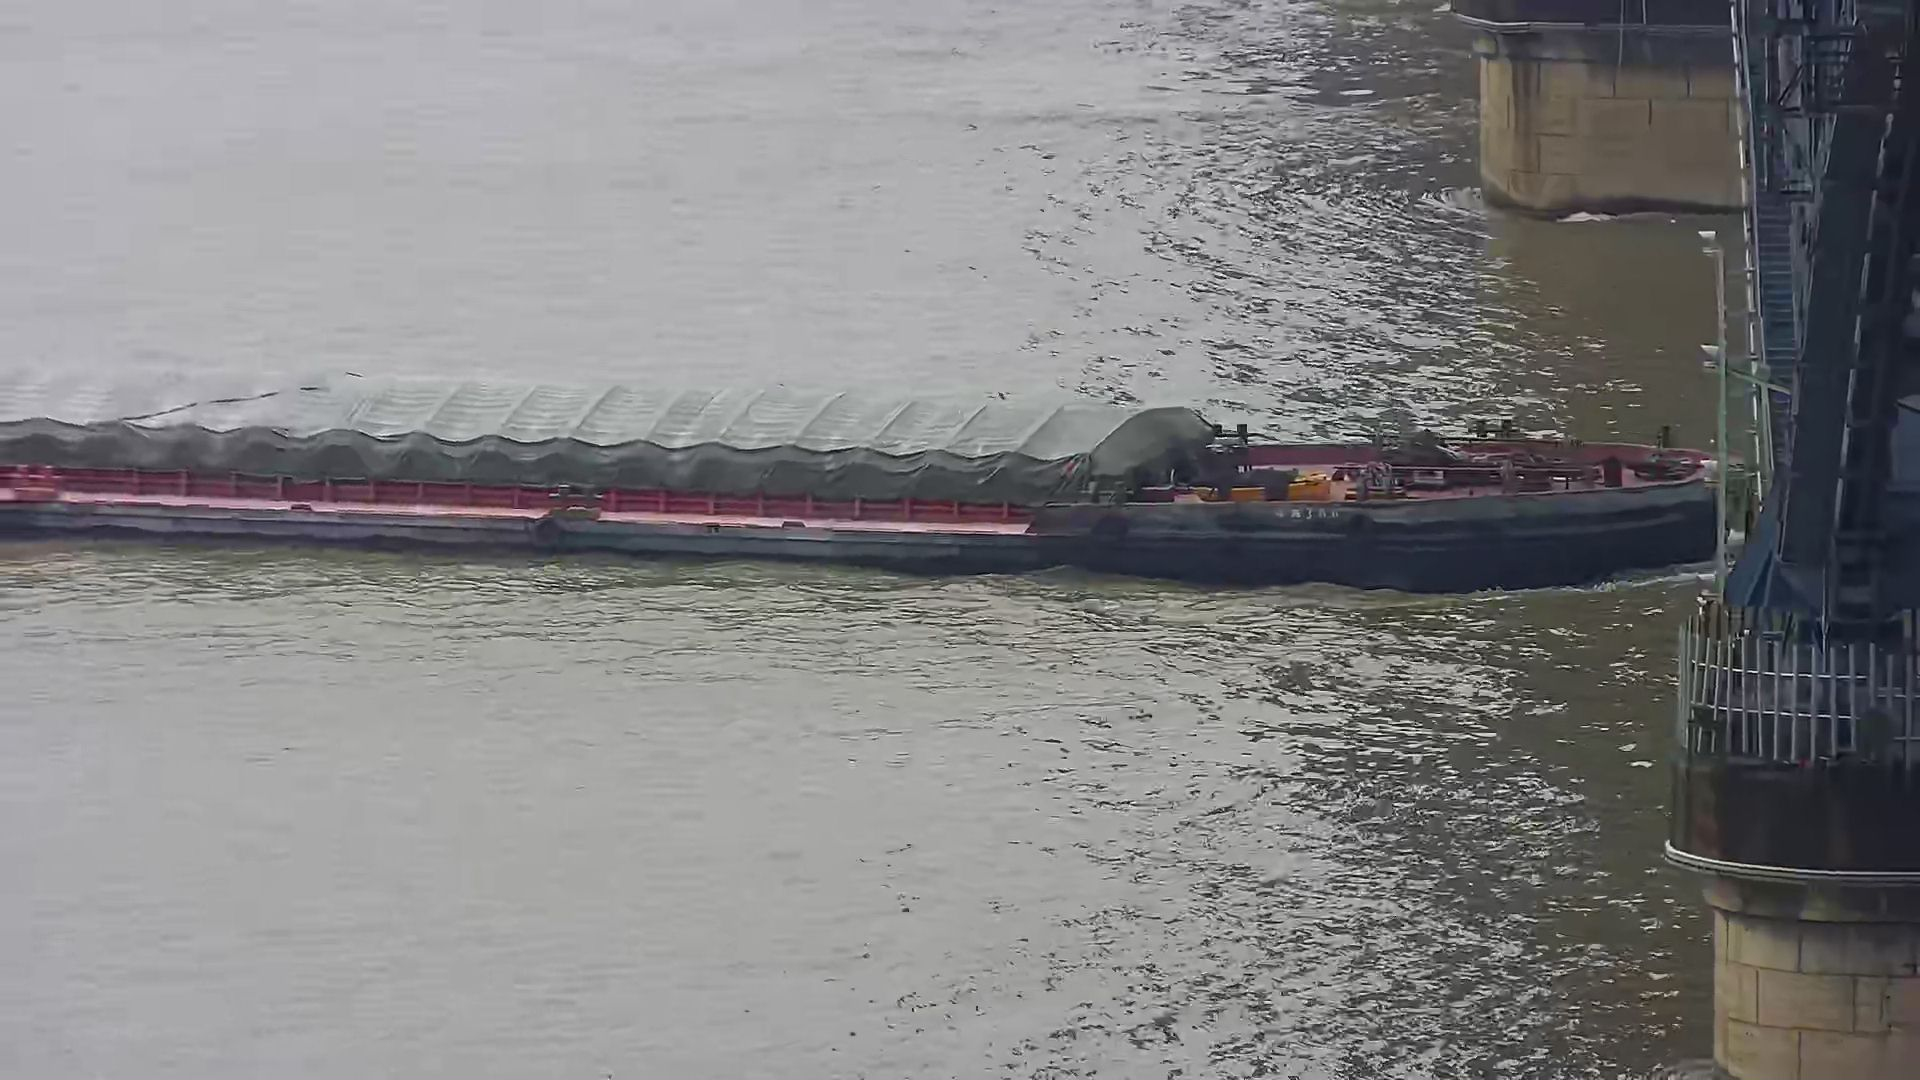bridge: (1437, 5, 1920, 1080)
ship: (1, 331, 1739, 593)
